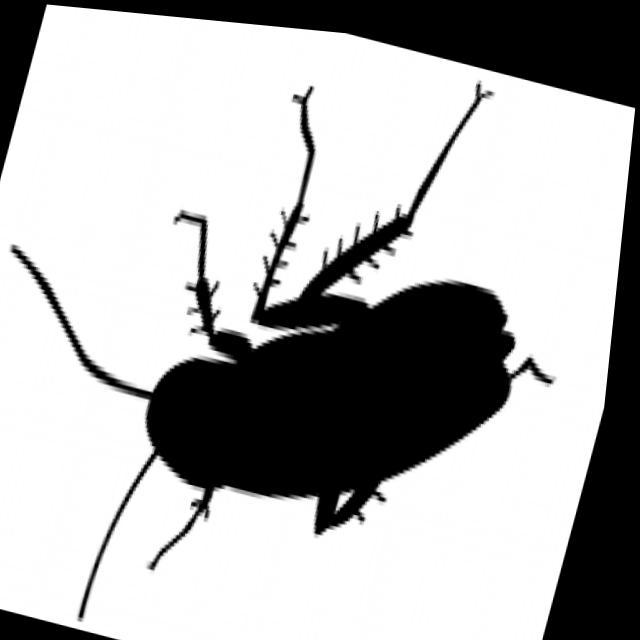Cockroach: (2, 65, 635, 640)
